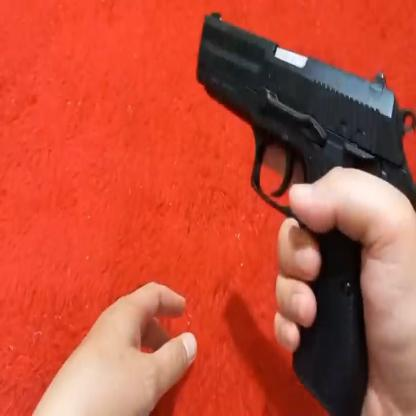handgun: (189, 0, 416, 415)
